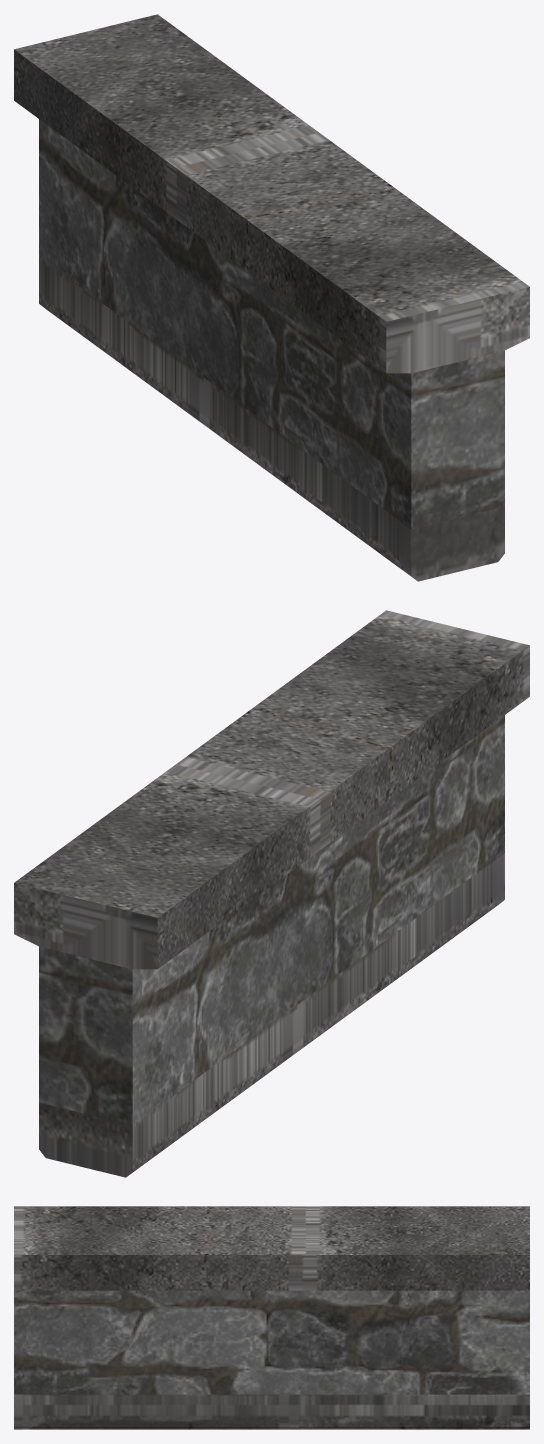
File: MC_Battlements_Wall_B_2m.fbx
3 views of the same model, one above another, from view 1: azimuth 30°, elevation 25°; view 2: azimuth 150°, elevation 25°; view 3: azimuth 270°, elevation 25° (orthographic). The views are drawn at different scales.
Visible parts, largest first — view 1: MC_Battlements_Wall_B_2m; view 2: MC_Battlements_Wall_B_2m; view 3: MC_Battlements_Wall_B_2m.
Part boxes in pixels (x1,y1,x2,y2): MC_Battlements_Wall_B_2m: (14, 14, 529, 581); MC_Battlements_Wall_B_2m: (14, 610, 529, 1177); MC_Battlements_Wall_B_2m: (14, 1206, 529, 1429).
Bounding box in the file's own units: 44.54 × 79.27 × 200.
